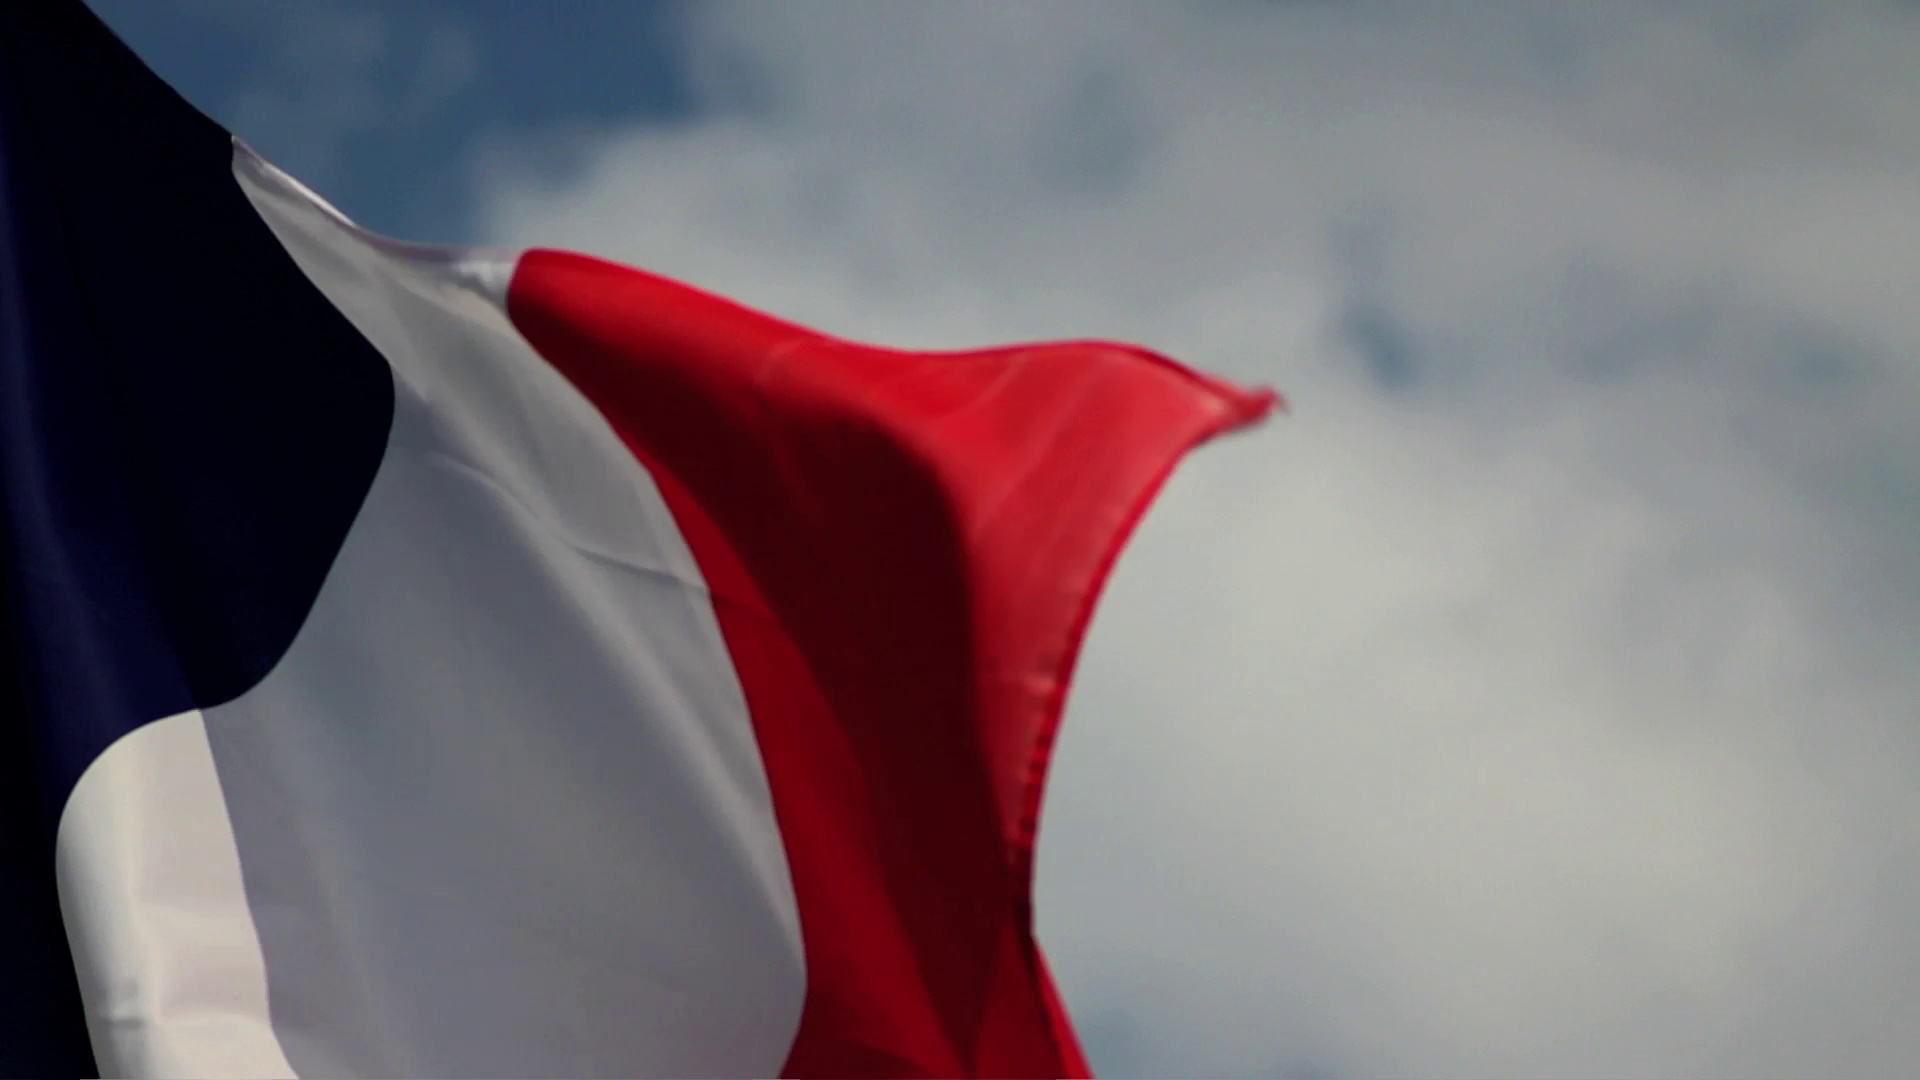French Flag: (1, 1, 1294, 1080)
